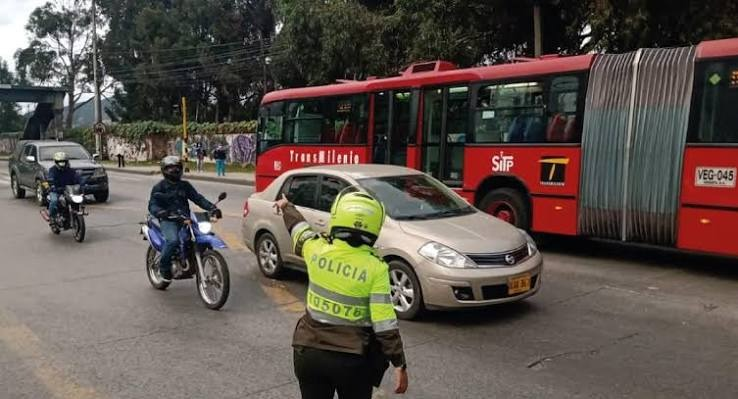car: (241, 49, 709, 238), (421, 50, 734, 249), (251, 105, 587, 253), (165, 163, 499, 285), (264, 161, 525, 310), (144, 200, 236, 305), (34, 157, 99, 231), (15, 139, 97, 197), (31, 151, 101, 200), (42, 183, 91, 241), (13, 140, 93, 175)
